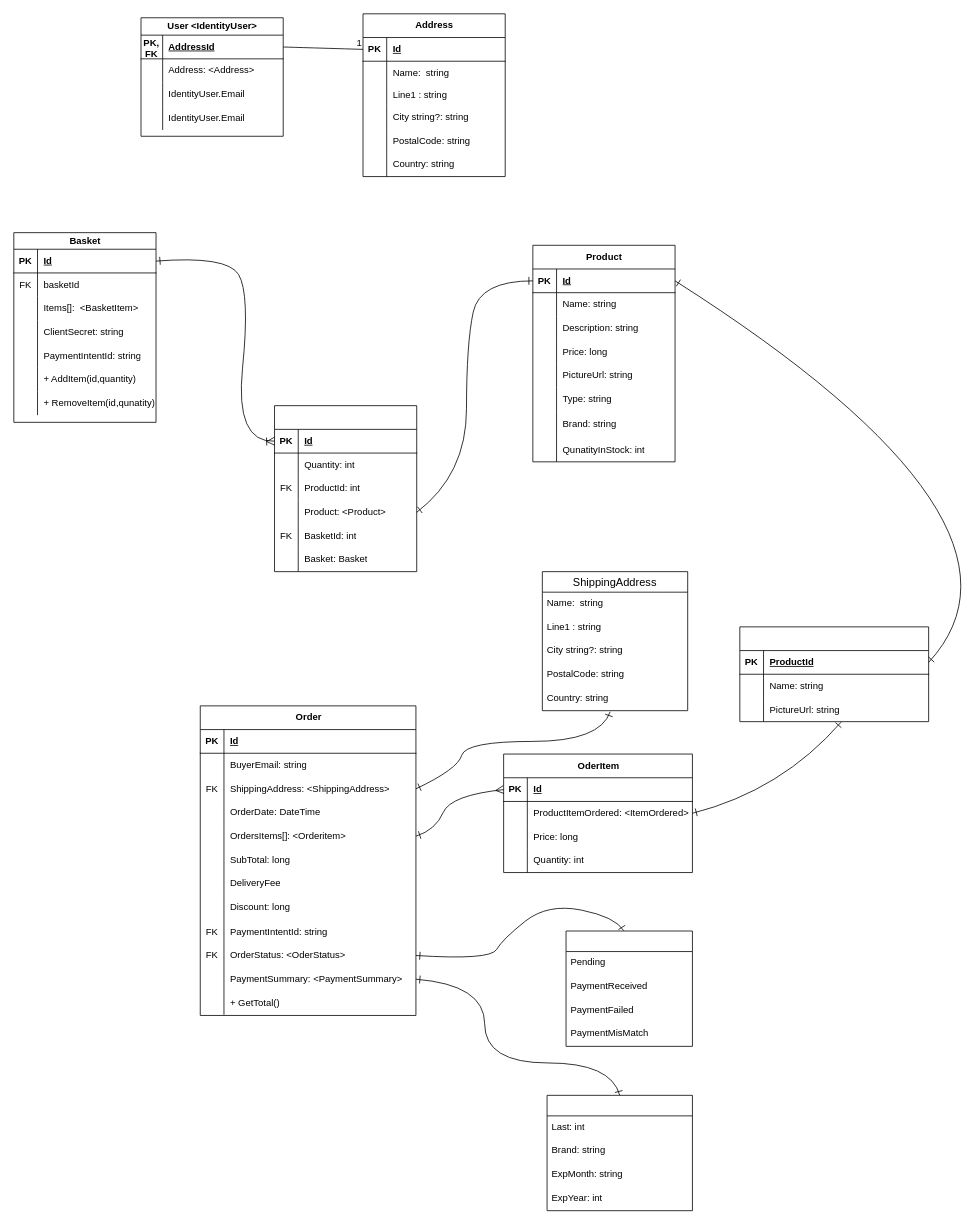
Some shapes in this 975 by 1227 pixel diagram are drawn without their labels. The shapes that lost their labels are listed below. From the top down, each one's box as (x1, y1, x2, y2) in pixels, then its label:
(274, 405, 417, 572): BasketItem
(739, 626, 929, 722): ProductItemOrdered
(565, 930, 692, 1046): [Enum] OrderStatus
(546, 1095, 692, 1211): [Owned] PaymentSummary
